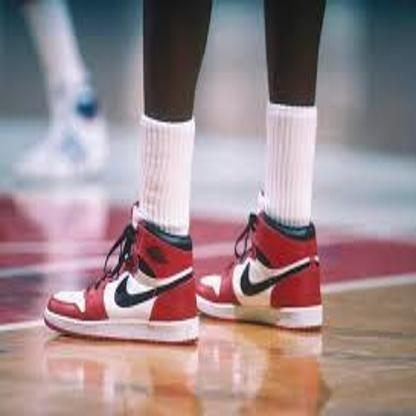not trash: (44, 218, 196, 343), (195, 209, 320, 334)
